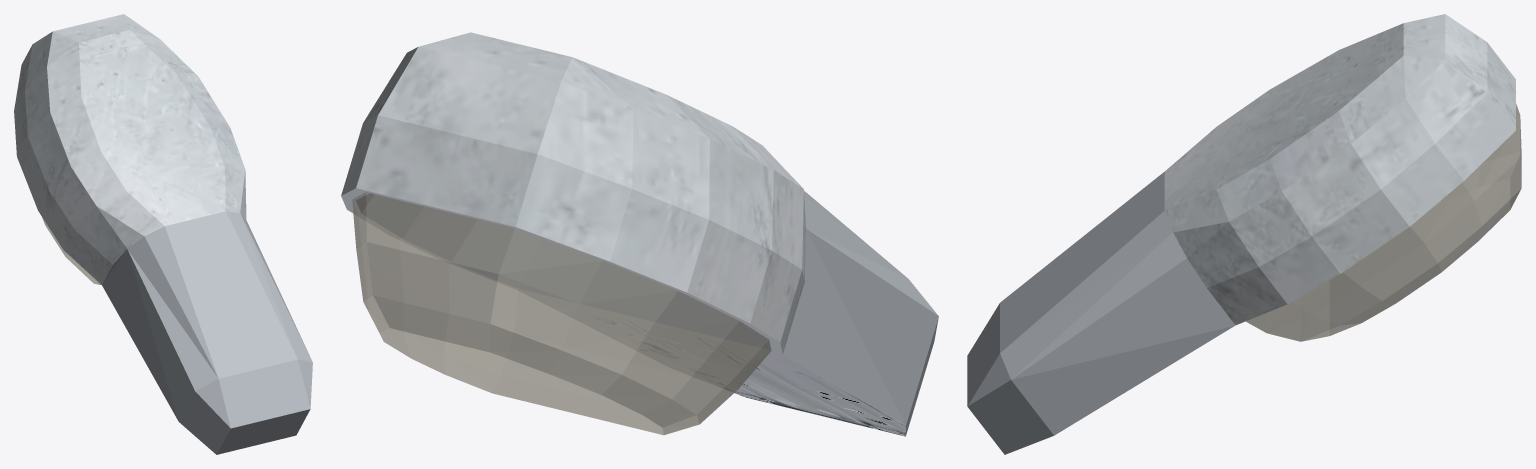
Rendered from lampSov2_01.glb.
3 views of the same model, side by side, from view 1: azimuth 30°, elevation 25°; view 2: azimuth 150°, elevation 25°; view 3: azimuth 270°, elevation 25° (orthographic). The views are drawn at different scales.
Visible parts, largest first — view 1: geometry_1, geometry_0; view 2: geometry_1, geometry_0; view 3: geometry_1, geometry_0.
Boxes of the visible parts, <box> form: geometry_1: <box>14,14,312,454</box>; geometry_0: <box>42,217,100,284</box>; geometry_1: <box>341,32,938,436</box>; geometry_0: <box>352,192,771,435</box>; geometry_1: <box>967,14,1515,454</box>; geometry_0: <box>1246,103,1521,341</box>.
Bounding box in the file's own units: 1.36 × 2.15 × 2.75.
Materials: 2 (1 with a texture image).
